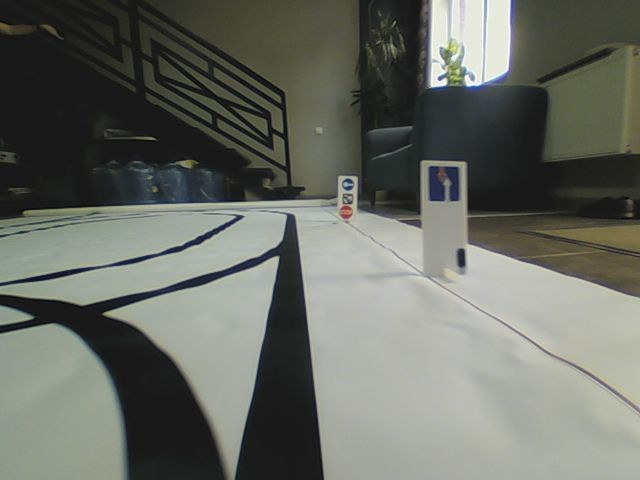priority_movement: (428, 166, 460, 201)
